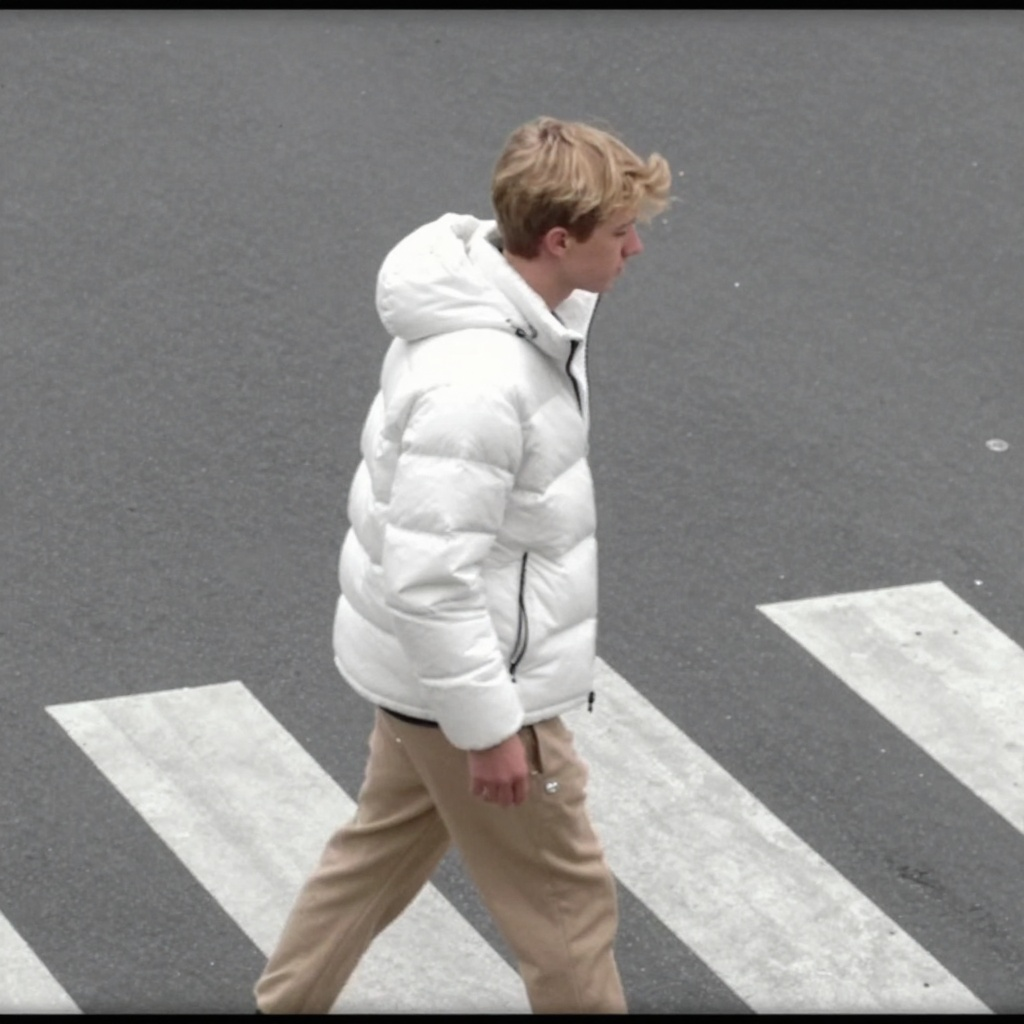Normal activity: (250, 98, 649, 1007)
